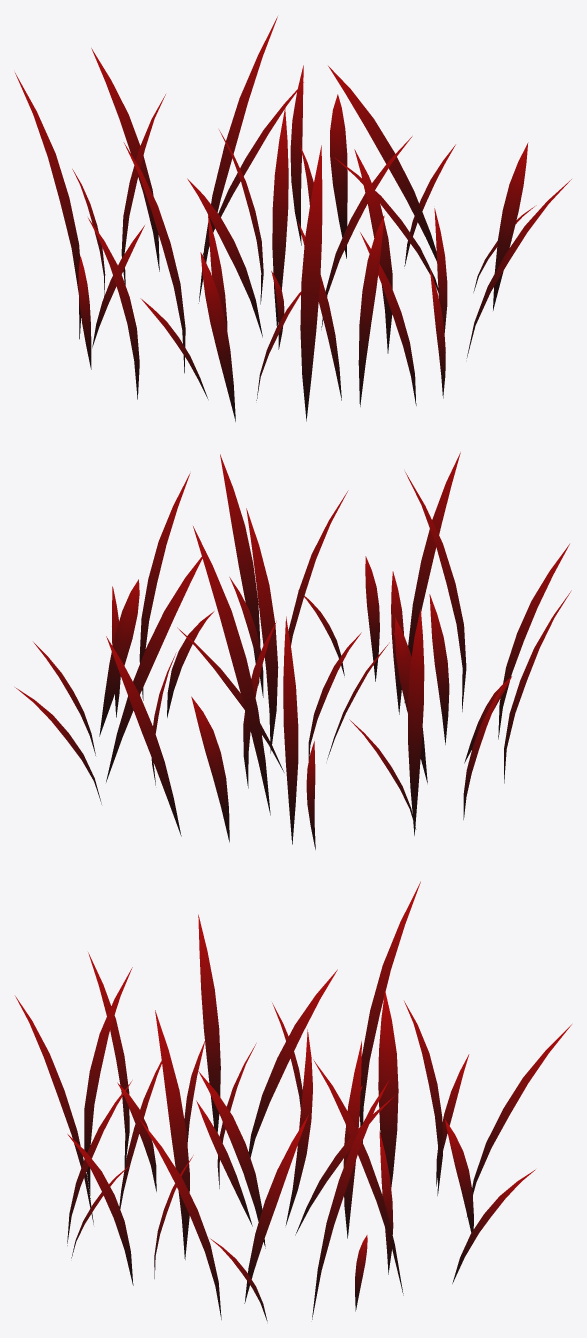
Rendered from Grass.fbx.
3 views of the same model, one above another, from view 1: azimuth 30°, elevation 25°; view 2: azimuth 150°, elevation 25°; view 3: azimuth 270°, elevation 25° (orthographic).
Parts seen in each view (by area): view 1: Grass; view 2: Grass; view 3: Grass.
Boxes of the visible parts, left/top/right/bottom form: Grass: left=15, top=16, right=571, bottom=421; Grass: left=15, top=452, right=571, bottom=849; Grass: left=15, top=881, right=571, bottom=1321.
Size of the model in its own units: 359 by 204 by 384.
